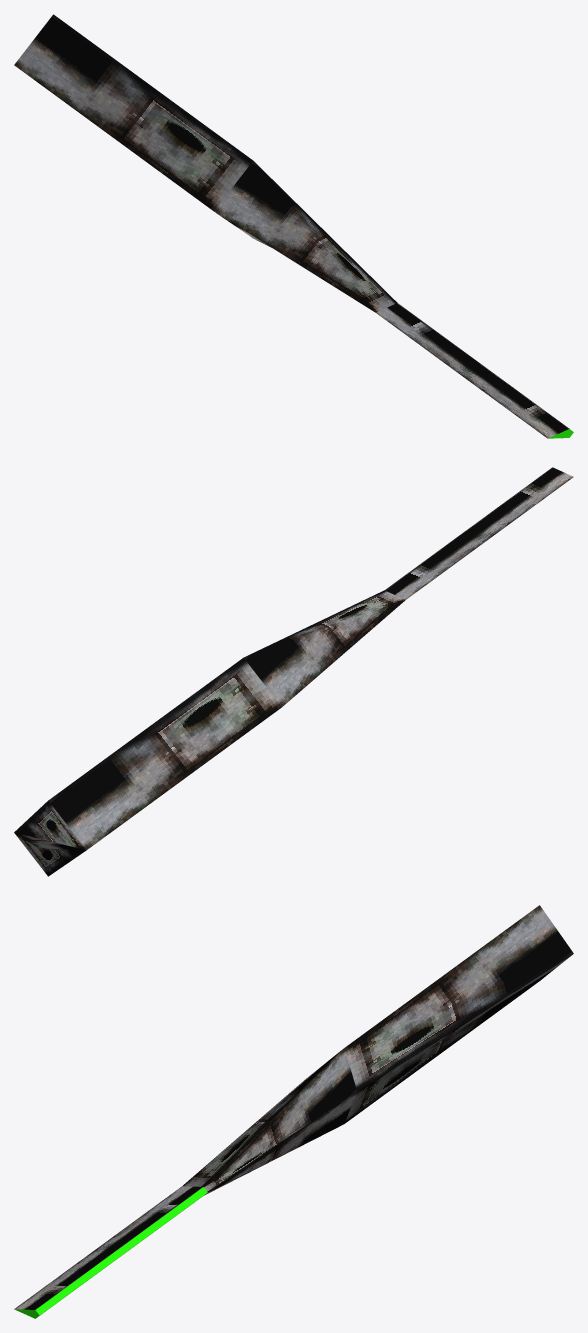
3 views of the same model, one above another, from view 1: azimuth 30°, elevation 25°; view 2: azimuth 150°, elevation 25°; view 3: azimuth 330°, elevation 25° (orthographic). The views are drawn at different scales.
Visible parts, largest first — view 1: prim205-Rhand06; view 2: prim205-Rhand06; view 3: prim205-Rhand06.
Part boxes in pixels (box(x1,y1,x2,y2)): prim205-Rhand06: box(14, 14, 573, 438); prim205-Rhand06: box(14, 467, 573, 876); prim205-Rhand06: box(14, 905, 573, 1318).
Bounding box in the file's own units: 17 × 17 × 208.
3 materials, 3 textured.
